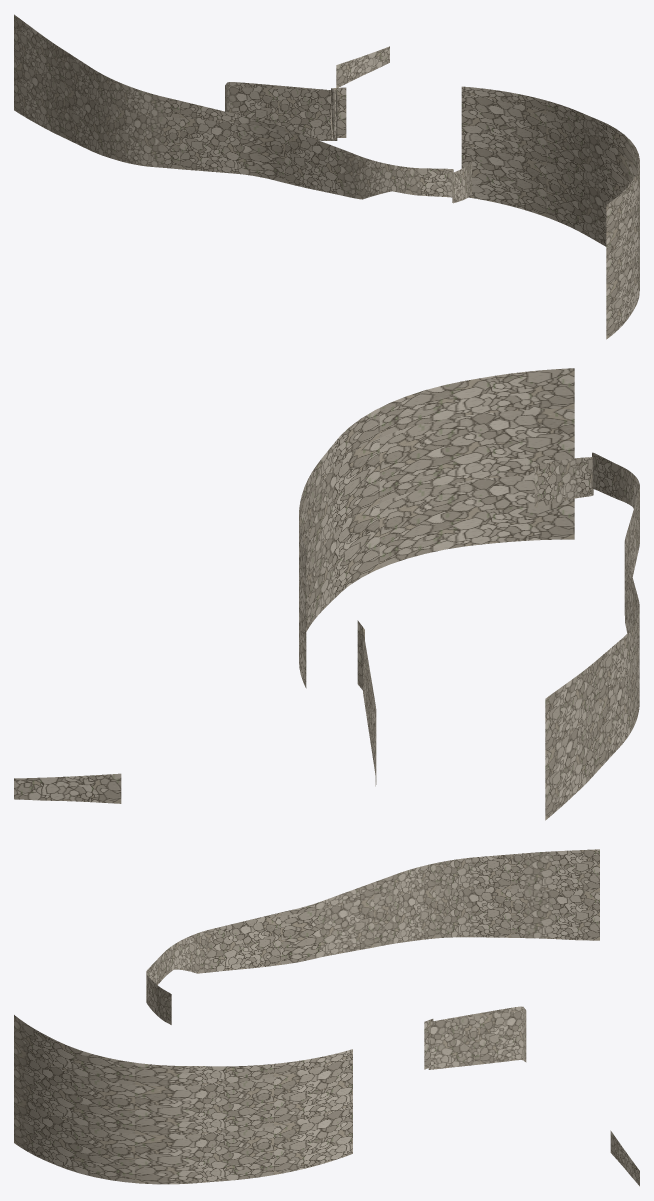
Rendered from monaco-paredao.glb.
3 views of the same model, one above another, from view 1: azimuth 30°, elevation 25°; view 2: azimuth 150°, elevation 25°; view 3: azimuth 270°, elevation 25° (orthographic). The views are drawn at different scales.
Visible parts, largest first — view 1: monaco-paredao; view 2: monaco-paredao; view 3: monaco-paredao.
Boxes of the visible parts, x1,y1,x2,y2 form: monaco-paredao: (14,14,639,339); monaco-paredao: (14,368,639,820); monaco-paredao: (14,849,639,1186).
Size of the model in its own units: 67.06 by 27.38 by 96.21.
1 material, 1 textured.
